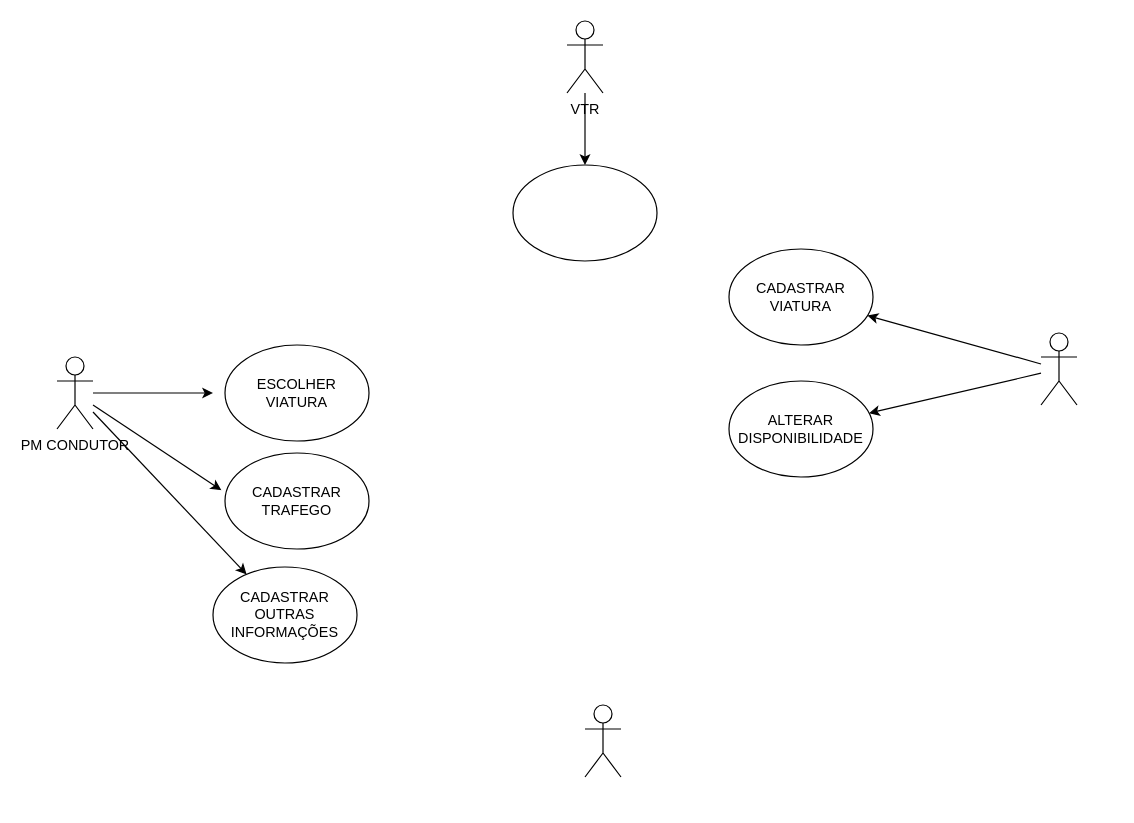
Some shapes in this 1134 by 823 pixel diagram are drawn without their labels. The box of each missing label's shape, as (x1, y1, x2, y2) in pixels:
AUX SUBFROTA: (1040, 332, 1077, 405)
QR CODE?: (512, 164, 657, 261)
USUARIO: (584, 704, 621, 777)
